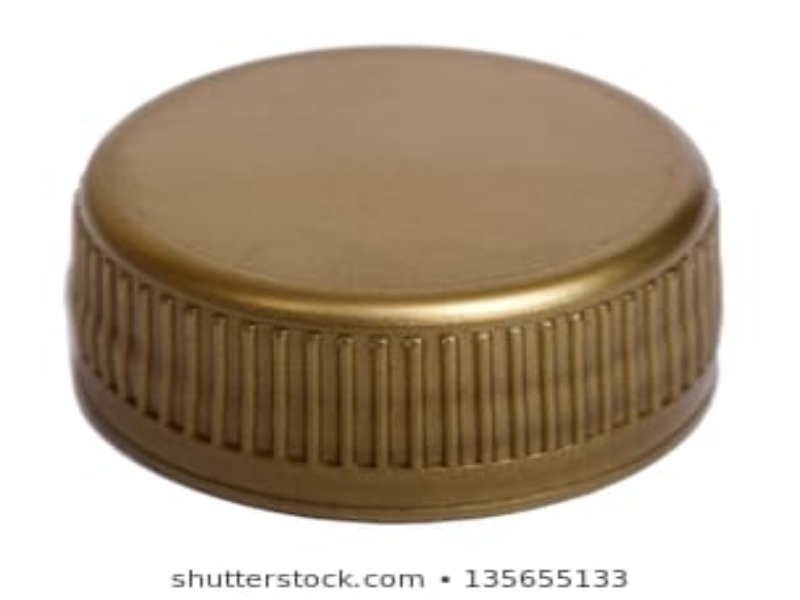bottle-cap: (66, 41, 725, 529)
